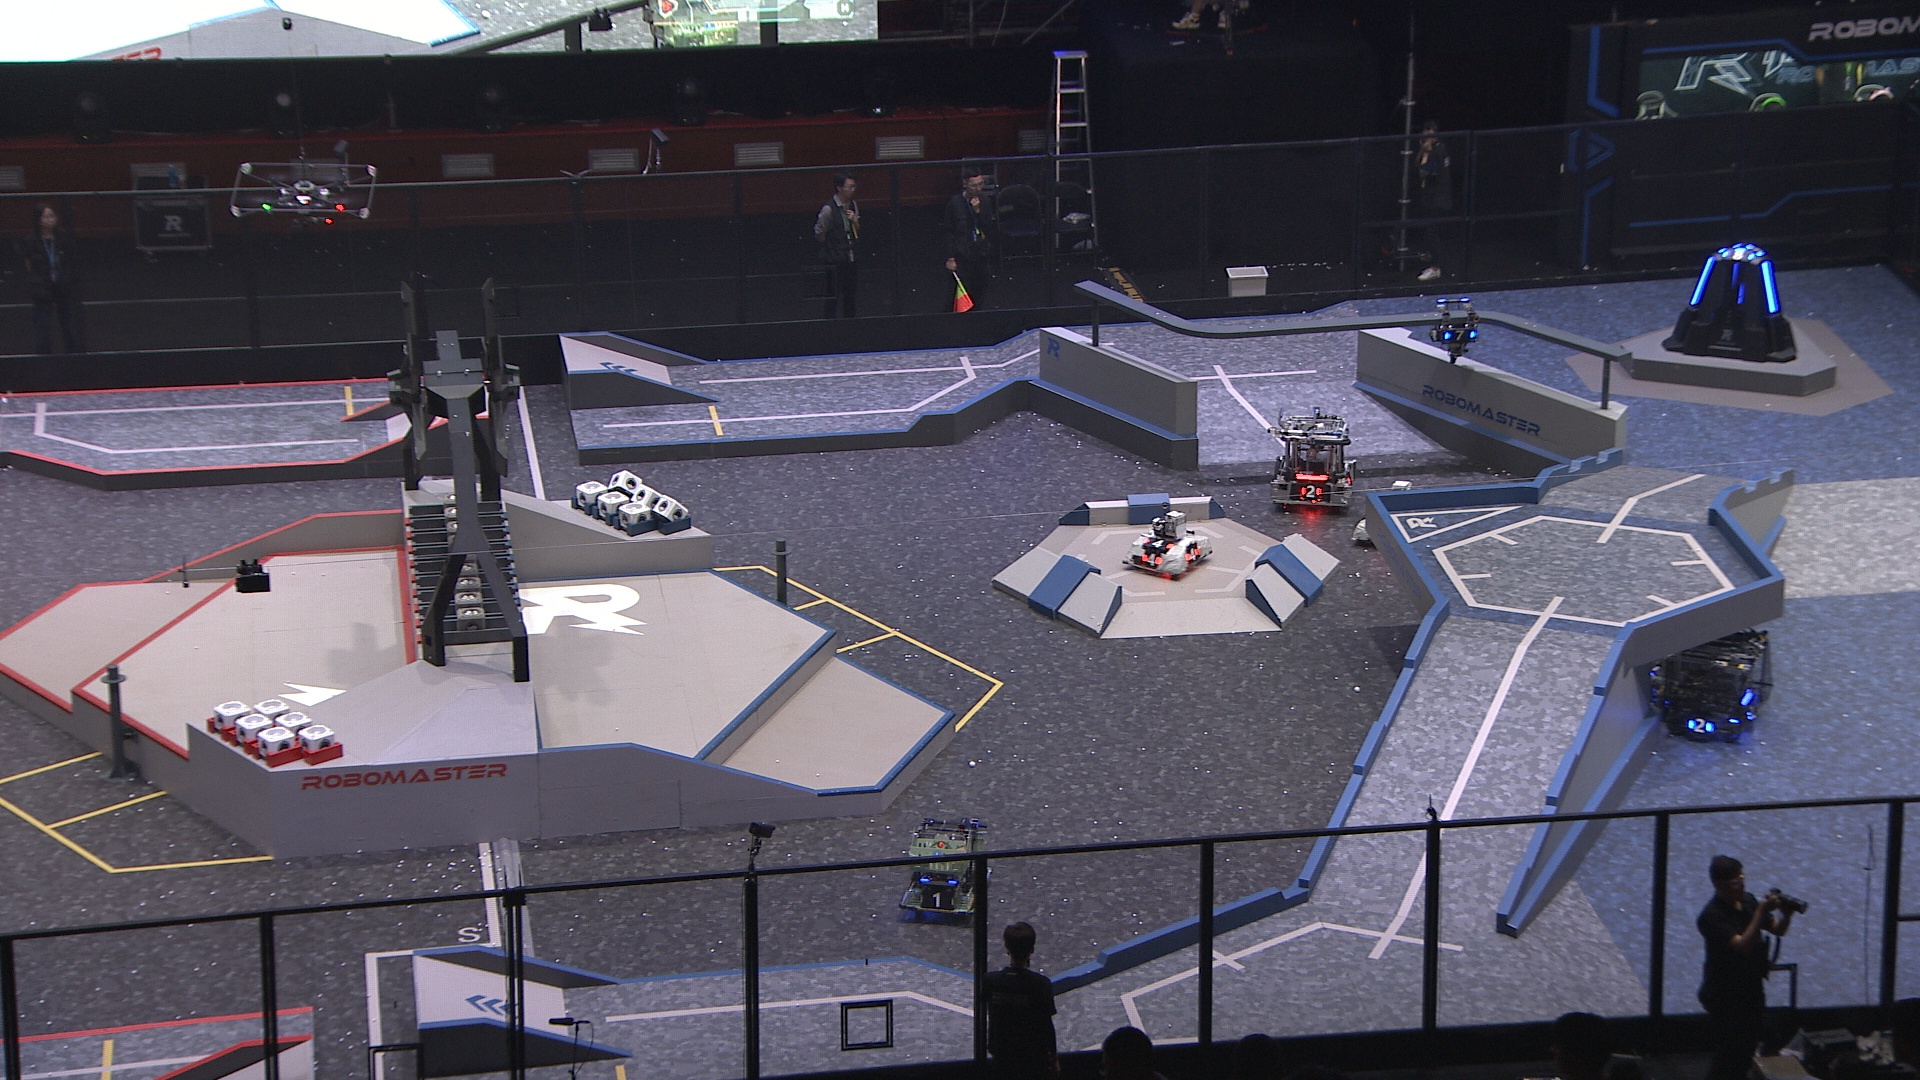armor: (1687, 255, 1714, 305), (1760, 258, 1778, 314), (922, 887, 955, 910), (1722, 245, 1759, 262), (1443, 328, 1477, 344), (1688, 716, 1713, 737), (1145, 535, 1172, 551), (1299, 484, 1325, 500), (1139, 553, 1164, 568), (1185, 547, 1203, 564)
base: (1658, 243, 1797, 363)
car: (1655, 626, 1770, 745), (895, 818, 997, 922), (1266, 415, 1356, 514), (1121, 506, 1216, 582)
watcher: (1427, 299, 1480, 367)
